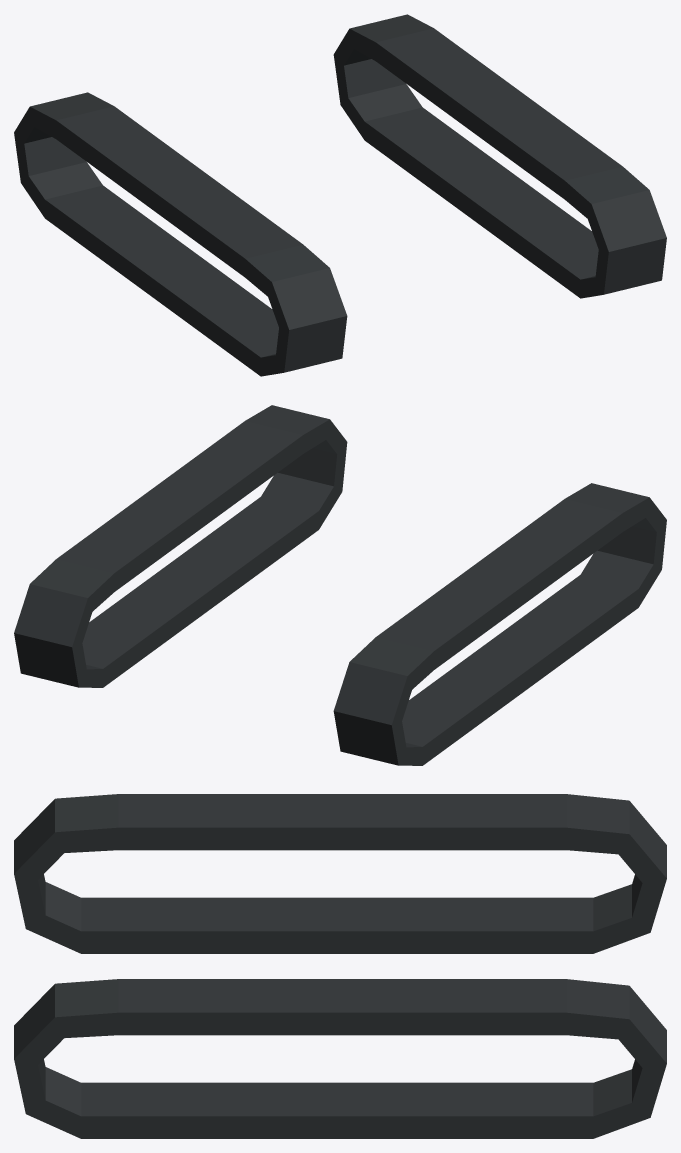
Rendered from tank_band.glb.
The picture shows the model from 3 angles, top to bottom: view 1: azimuth 30°, elevation 25°; view 2: azimuth 150°, elevation 25°; view 3: azimuth 270°, elevation 25°; orthographic projection. The views are drawn at different scales.
Visible parts, largest first — view 1: tank_band_R, tank_band_L; view 2: tank_band_L, tank_band_R; view 3: tank_band_L, tank_band_R.
Part boxes in pixels (bbox=[...]): tank_band_R: bbox=[14, 92, 347, 376]; tank_band_L: bbox=[333, 14, 666, 298]; tank_band_L: bbox=[14, 405, 347, 687]; tank_band_R: bbox=[333, 483, 666, 765]; tank_band_L: bbox=[14, 979, 666, 1138]; tank_band_R: bbox=[14, 794, 666, 953].
Size of the model in its own units: 1.04 by 0.28 by 1.31.
1 material, 1 textured.
